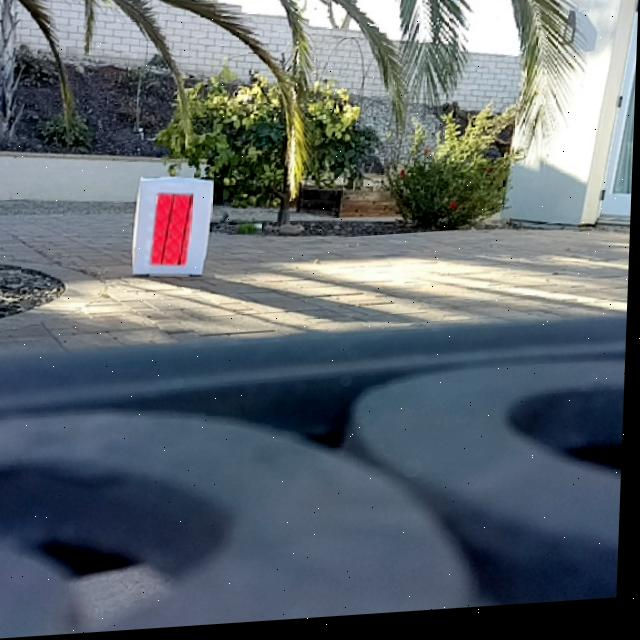led: (153, 194, 194, 270)
